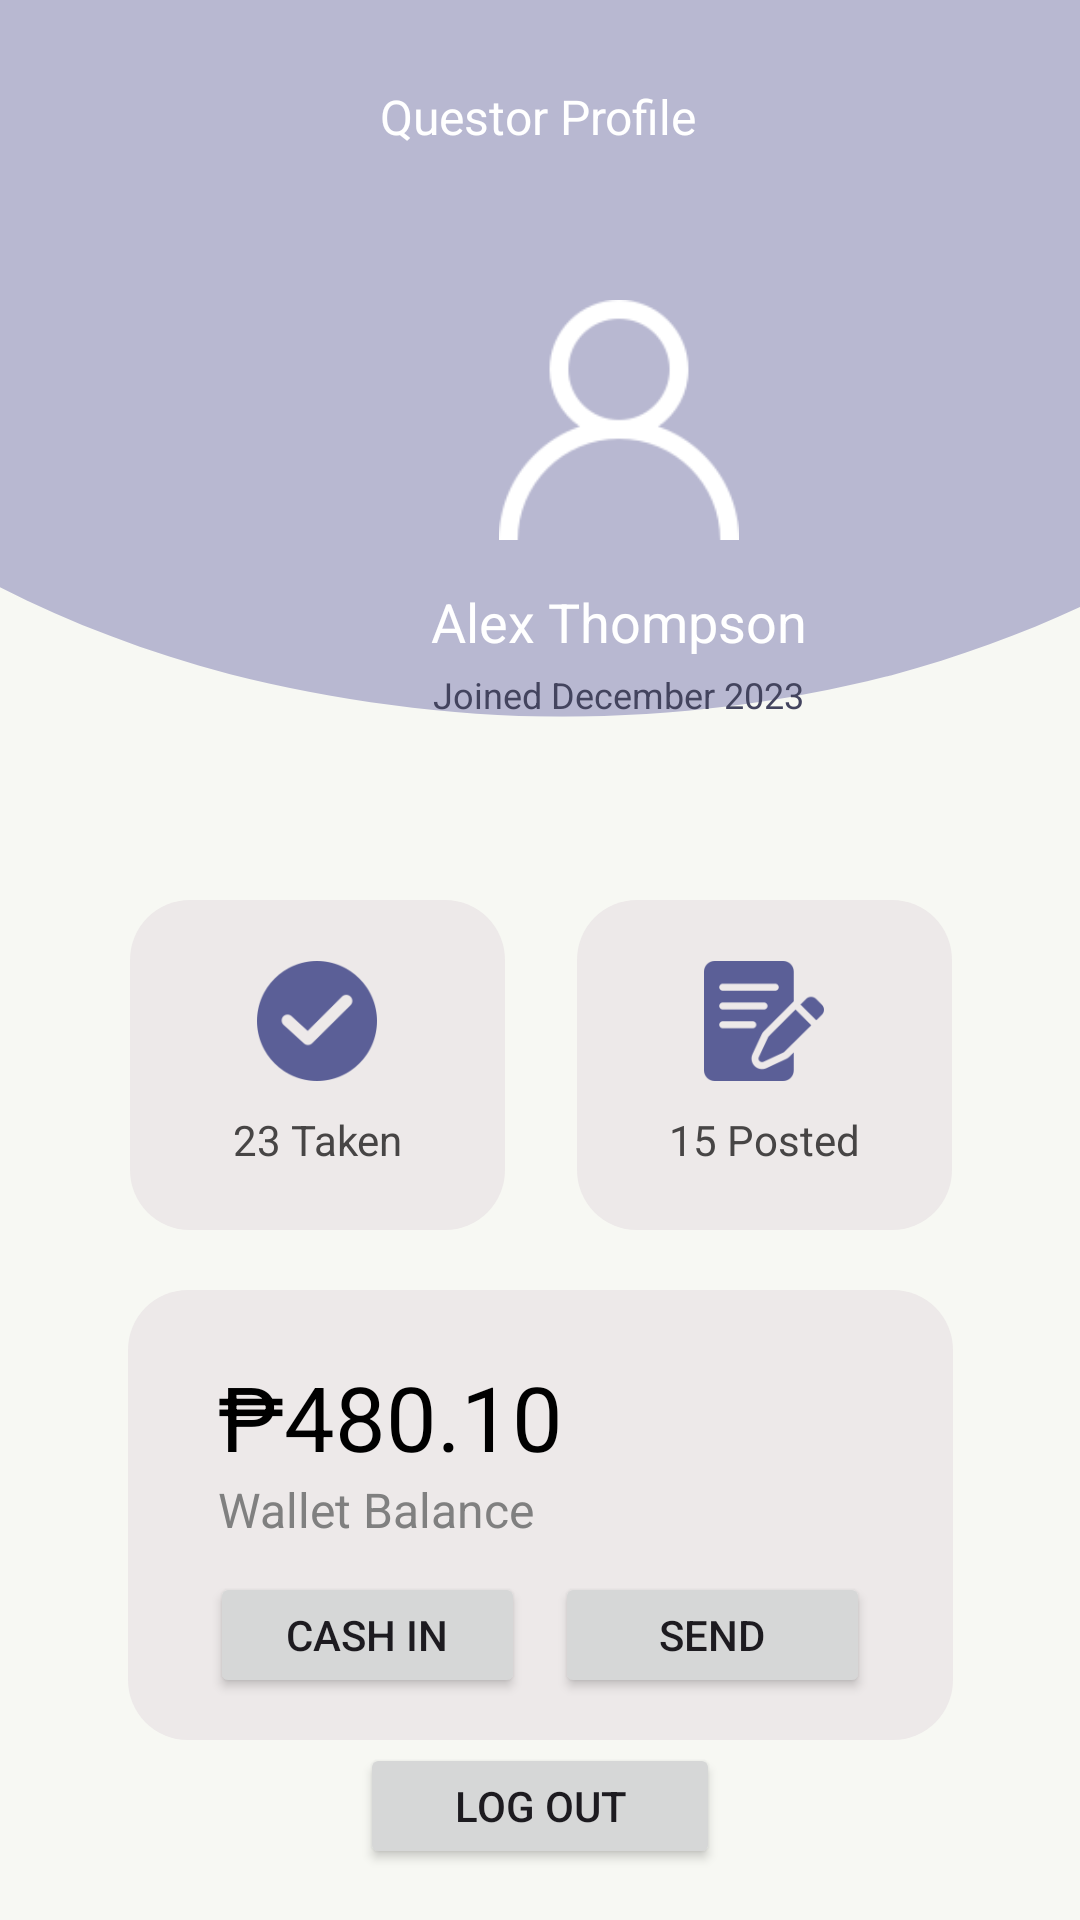

Point at icon controls on the screen. Image size 1080×1920, points as point (x, y).
profile: point (619, 420)
